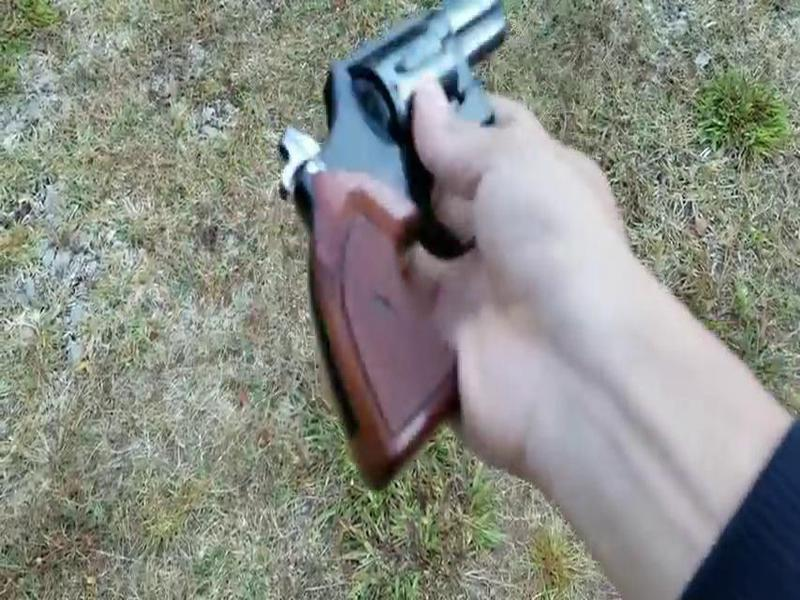Revolver: (260, 1, 571, 476)
